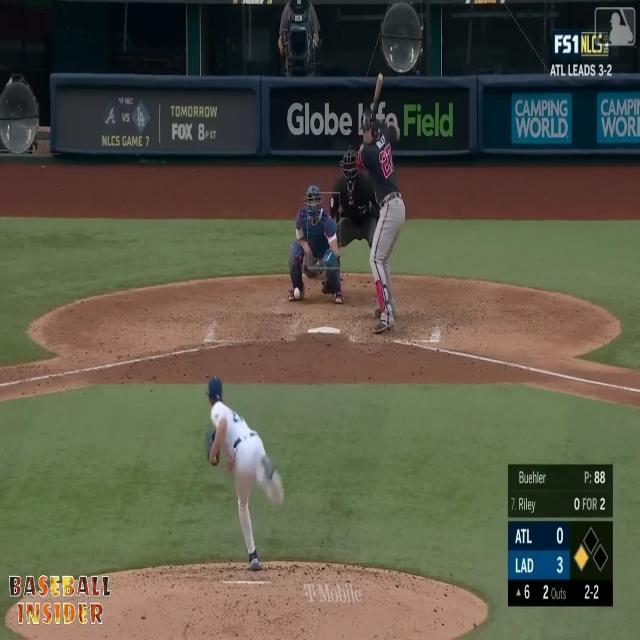baseball: (293, 286, 301, 301)
